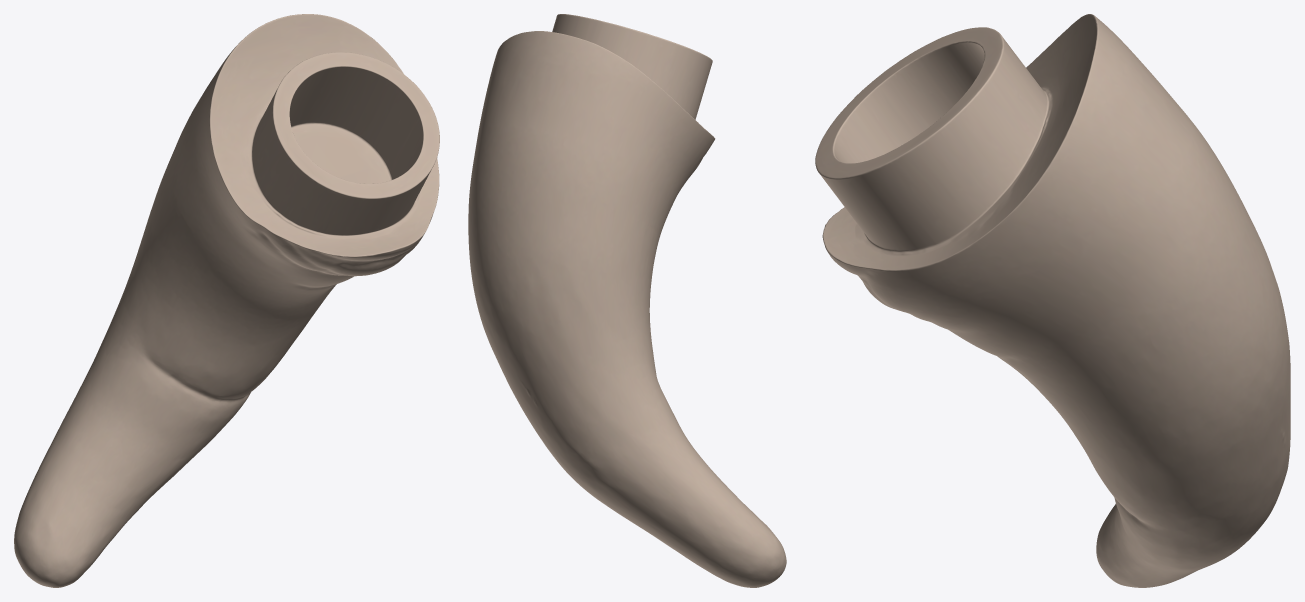
The model's file is Queue_Elephant.glb.
3 renders of one model, left to right at view 1: azimuth 30°, elevation 25°; view 2: azimuth 150°, elevation 25°; view 3: azimuth 270°, elevation 25°, orthographic. The views are drawn at different scales.
Visible parts, largest first — view 1: Queue_Elephant; view 2: Queue_Elephant; view 3: Queue_Elephant.
Boxes of the visible parts, x1,y1,x2,y2 form: Queue_Elephant: [14, 14, 439, 587]; Queue_Elephant: [468, 14, 786, 587]; Queue_Elephant: [815, 14, 1290, 587].
Bounding box in the file's own units: 1.68 × 2.41 × 1.51.
